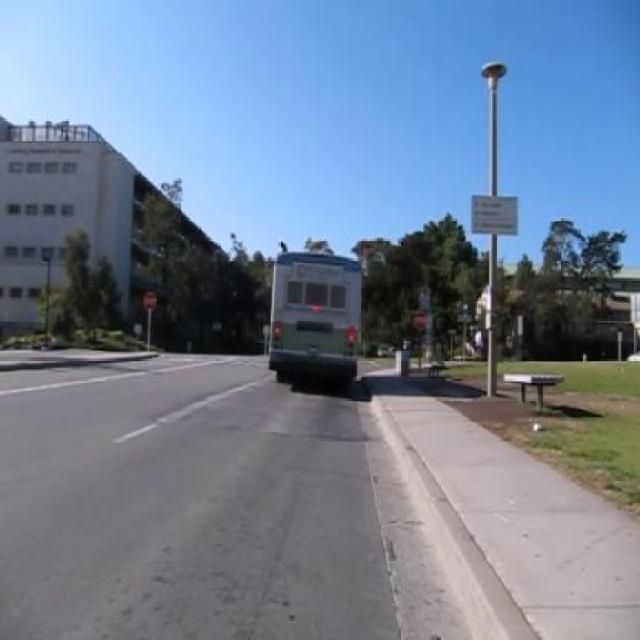stop: (412, 309, 428, 331), (141, 291, 157, 311)
